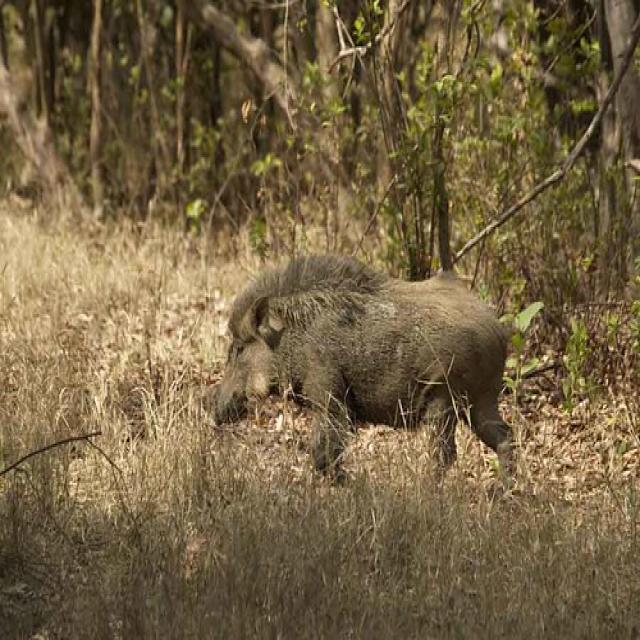boar: (202, 230, 526, 520)
